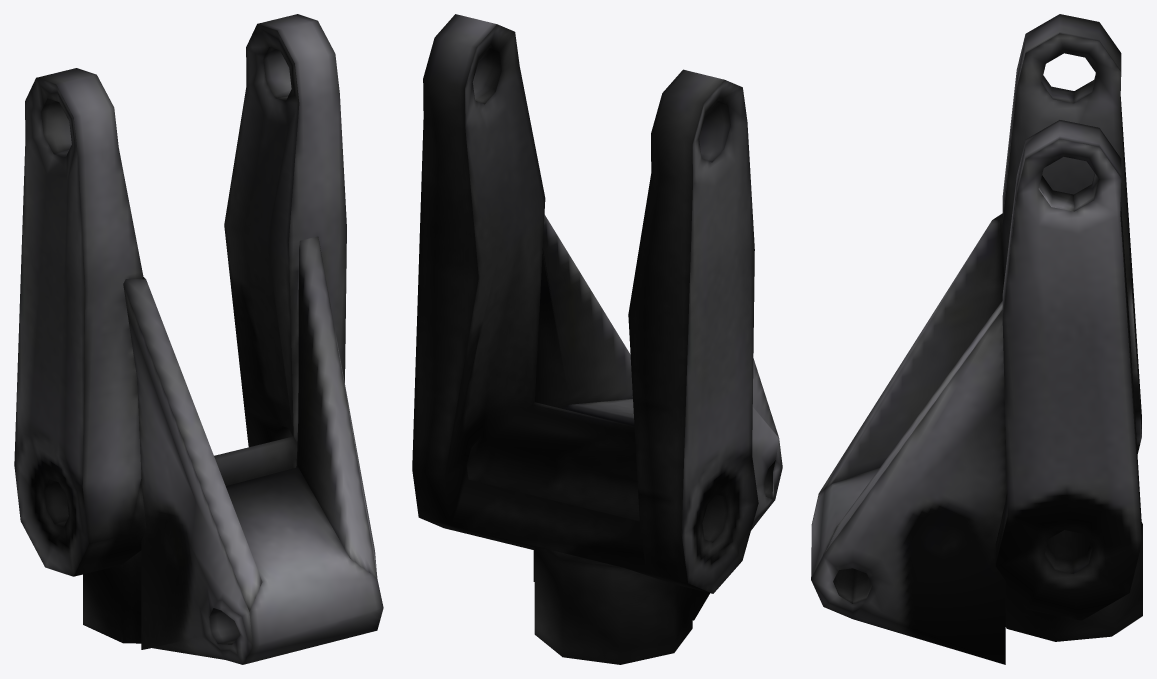
The model's file is r_uglut.dae.
The picture shows the model from 3 angles, left to right: view 1: azimuth 30°, elevation 25°; view 2: azimuth 150°, elevation 25°; view 3: azimuth 270°, elevation 25°; orthographic projection. The views are drawn at different scales.
Visible parts, largest first — view 1: r_uglut; view 2: r_uglut; view 3: r_uglut.
Boxes of the visible parts, x1=… form: r_uglut: x1=14, y1=14, x2=383, y2=664; r_uglut: x1=412, y1=14, x2=782, y2=664; r_uglut: x1=811, y1=14, x2=1142, y2=664.
Size of the model in its own units: 0.0824 by 0.0922 by 0.1684.
Materials: 1 (1 with a texture image).
